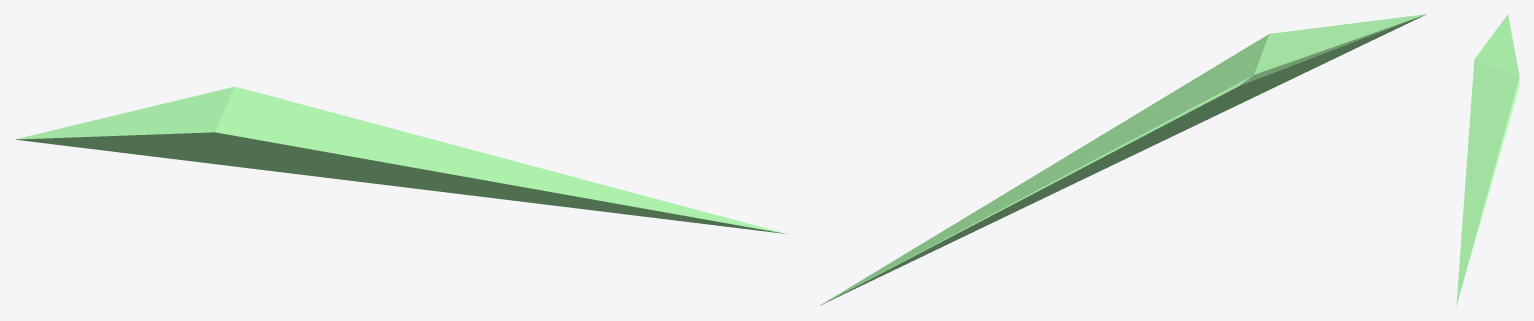
The model's file is linkhou_robot_base_coll_28.dae.
3 renders of one model, left to right at view 1: azimuth 30°, elevation 25°; view 2: azimuth 210°, elevation 25°; view 3: azimuth 270°, elevation 25°, orthographic. The views are drawn at different scales.
Visible parts, largest first — view 1: Node_0000029808435390; view 2: Node_0000029808435390; view 3: Node_0000029808435390.
Part boxes in pixels (x1=…): Node_0000029808435390: x1=15, y1=86, x2=787, y2=234; Node_0000029808435390: x1=819, y1=14, x2=1426, y2=305; Node_0000029808435390: x1=1456, y1=14, x2=1519, y2=305.
Size of the model in its own units: 0.1261 by 0.0389 by 0.0191.
